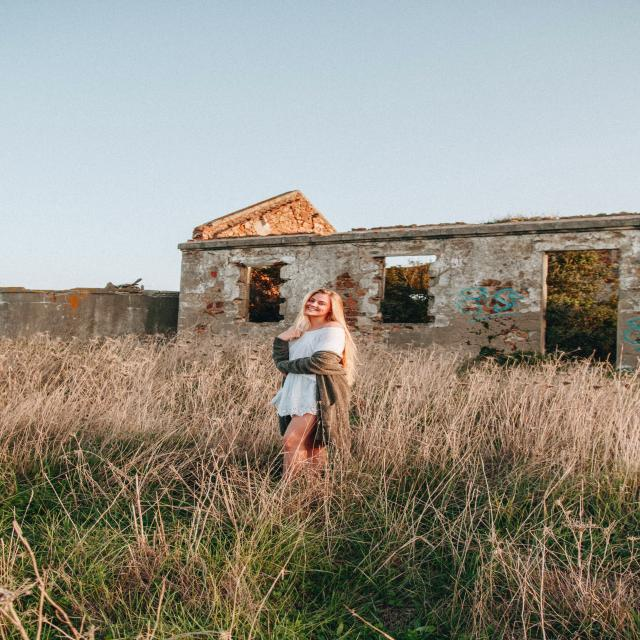adult: (264, 286, 364, 486)
